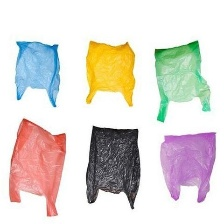plastic_bag: (2, 118, 67, 222), (80, 122, 144, 211), (152, 35, 215, 123), (156, 129, 218, 207), (81, 36, 138, 112), (12, 37, 66, 111)
